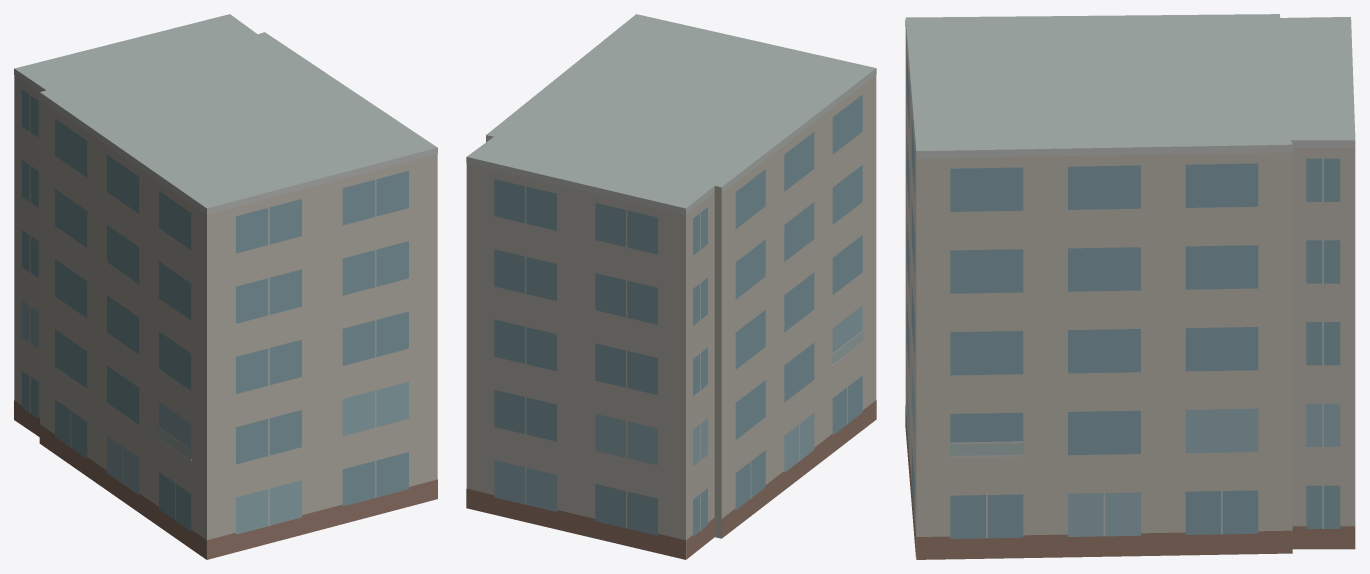
The model's file is survey-upis-33020971.glb.
The picture shows the model from 3 angles, left to right: view 1: azimuth 30°, elevation 25°; view 2: azimuth 150°, elevation 25°; view 3: azimuth 270°, elevation 25°; orthographic projection. The views are drawn at different scales.
Visible parts, largest first — view 1: survey-upis-33020971.tmp; view 2: survey-upis-33020971.tmp; view 3: survey-upis-33020971.tmp.
Part boxes in pixels (x1,y1,x2,y2): survey-upis-33020971.tmp: [14, 14, 437, 559]; survey-upis-33020971.tmp: [466, 14, 876, 559]; survey-upis-33020971.tmp: [905, 14, 1355, 559].
Size of the model in its own units: 9.61 by 13.35 by 13.33.
